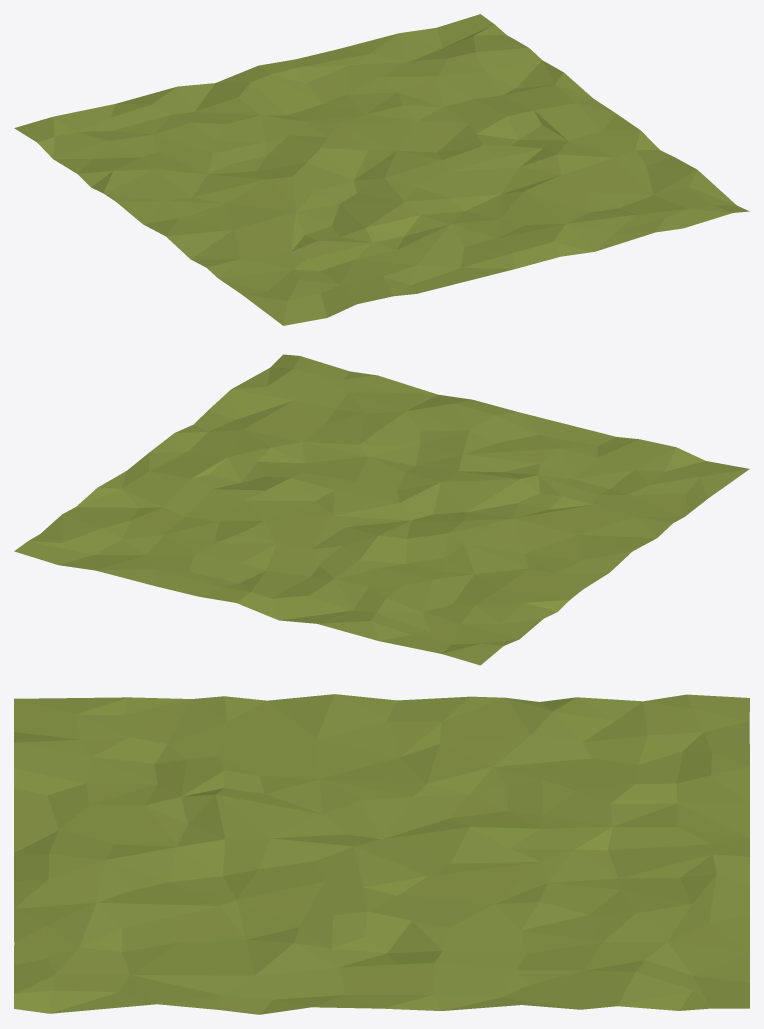
Rendered from ground.fbx.
3 renders of one model, top to bottom at view 1: azimuth 30°, elevation 25°; view 2: azimuth 150°, elevation 25°; view 3: azimuth 270°, elevation 25°, orthographic. The views are drawn at different scales.
Parts seen in each view (by area): view 1: grass; view 2: grass; view 3: grass.
Boxes of the visible parts, <box> form: grass: <box>14,14,749,325</box>; grass: <box>14,354,749,665</box>; grass: <box>14,694,749,1014</box>.
Size of the model in its own units: 34551 by 759 by 34555.
